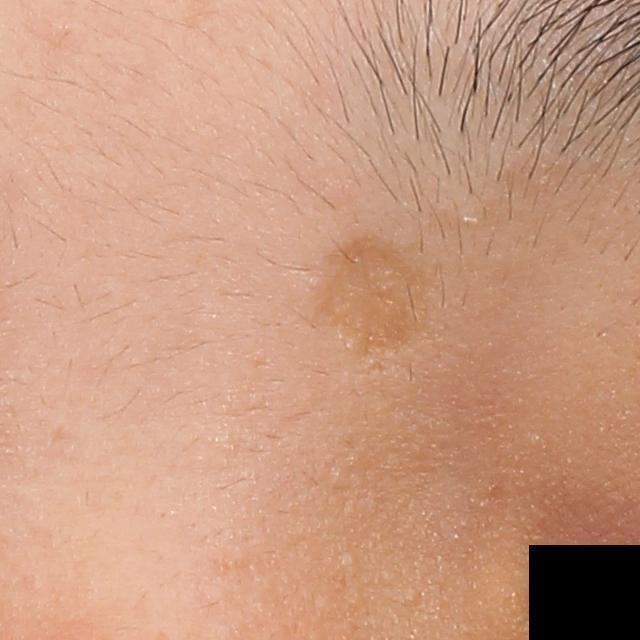other: (309, 223, 444, 355)
